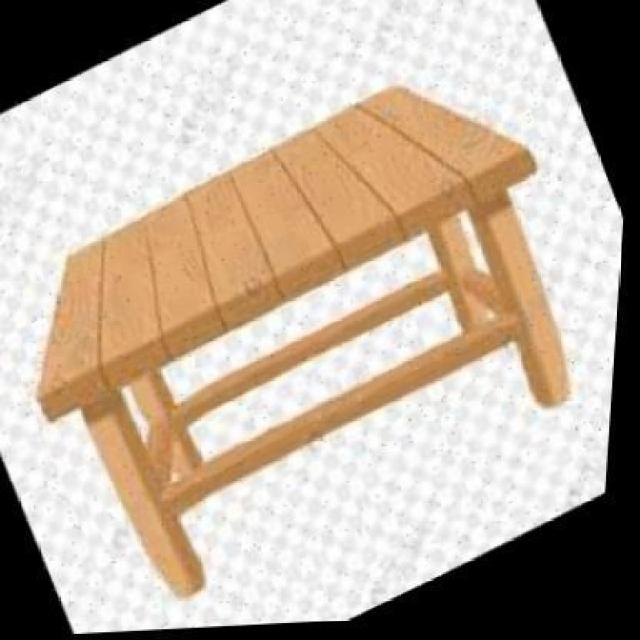tables: (34, 81, 572, 598)
